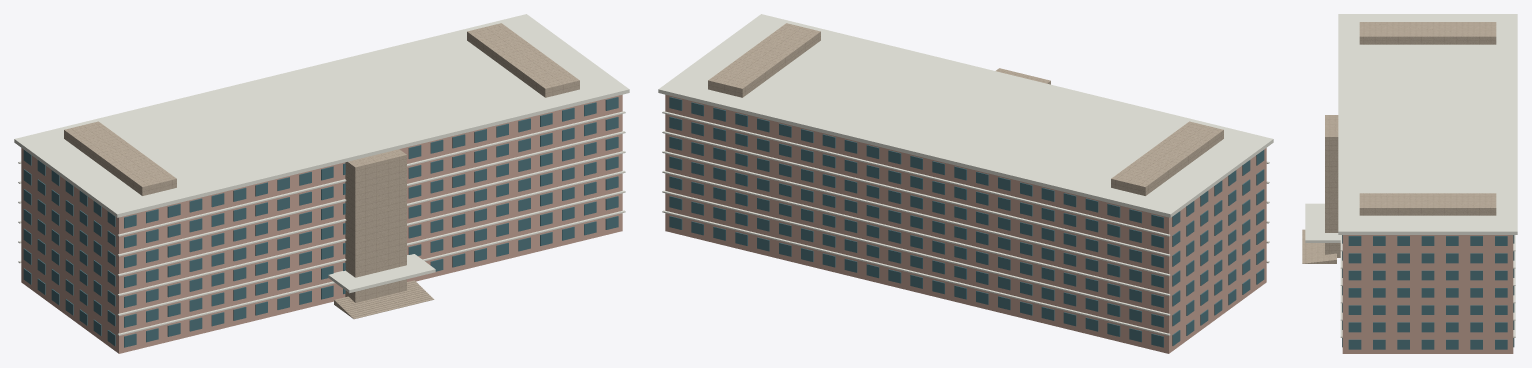
File: teaching-two.glb
3 renders of one model, left to right at view 1: azimuth 30°, elevation 25°; view 2: azimuth 150°, elevation 25°; view 3: azimuth 270°, elevation 25°, orthographic. The views are drawn at different scales.
Visible parts, largest first — view 1: landmark-teaching-two; view 2: landmark-teaching-two; view 3: landmark-teaching-two.
Part boxes in pixels (left/top/right/bottom): landmark-teaching-two: left=14, top=14, right=629, bottom=353; landmark-teaching-two: left=658, top=14, right=1273, bottom=353; landmark-teaching-two: left=1302, top=14, right=1517, bottom=353.
Size of the model in its own units: 89.15 by 25.2 by 37.27.
Materials: 4 (1 with a texture image).
